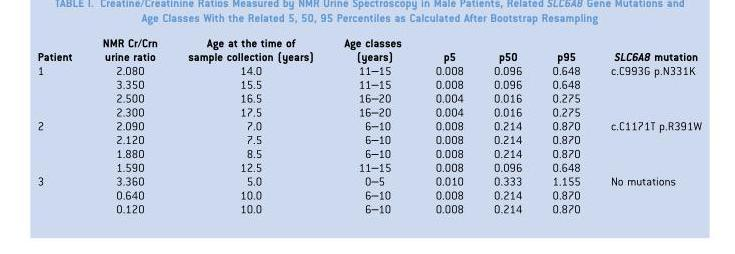table: (36, 37, 700, 215)
table column: (172, 37, 328, 215), (594, 37, 700, 215), (328, 37, 417, 215), (86, 37, 172, 215), (417, 37, 478, 215), (478, 37, 536, 215), (536, 37, 594, 215), (36, 37, 86, 215)
table column header: (36, 37, 700, 63)
table row: (36, 37, 700, 63), (36, 63, 700, 77), (36, 77, 700, 91), (36, 91, 700, 105), (36, 118, 700, 132), (36, 132, 700, 146), (36, 146, 700, 160), (36, 160, 700, 174), (36, 174, 700, 188), (36, 201, 700, 215), (36, 105, 700, 118), (36, 188, 700, 201)
table spanning cell: (36, 118, 86, 174), (36, 63, 86, 118), (36, 174, 86, 215)
